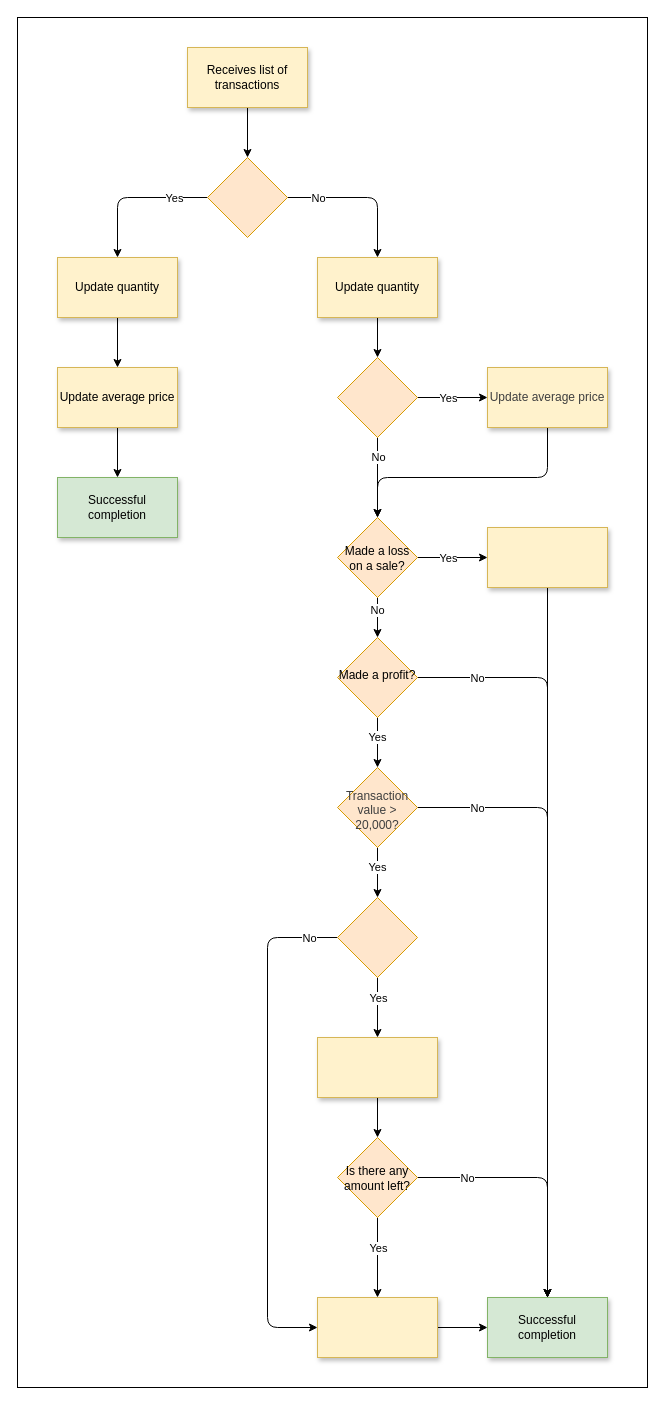
This 665x1405 diagram has some shape labels left out. Each missing label, with the centre of its shape:
Calculates the tax rate: (x=378, y=1328)
Had accumulated losses?: (x=377, y=937)
Is it a buy transaction?: (x=247, y=197)
Perform loss debit: (x=378, y=1068)
Sold all shares?: (x=377, y=397)
Update loss: (x=548, y=558)
